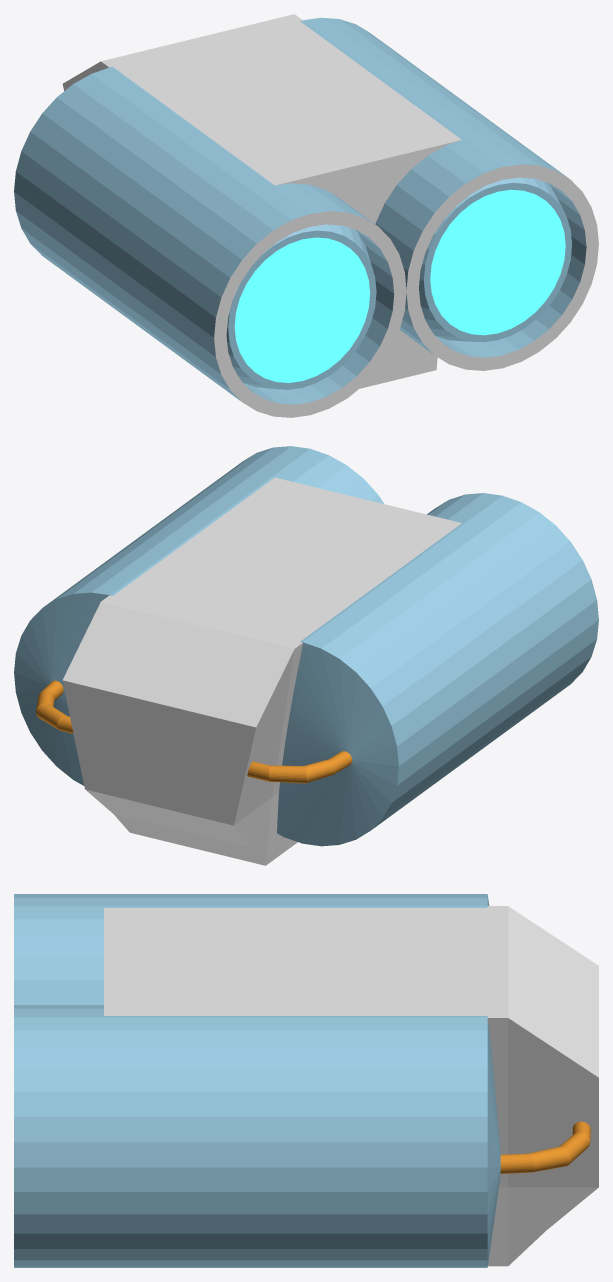
File: eyes5.glb
The picture shows the model from 3 angles, top to bottom: view 1: azimuth 30°, elevation 25°; view 2: azimuth 150°, elevation 25°; view 3: azimuth 270°, elevation 25°; orthographic projection. The views are drawn at different scales.
Parts seen in each view (by area): view 1: eyes5; view 2: eyes5; view 3: eyes5.
Boxes of the visible parts, x1,y1,x2,y2 form: eyes5: (14, 14, 598, 417); eyes5: (14, 446, 598, 865); eyes5: (14, 894, 598, 1267).
Bounding box in the file's own units: 1.11 × 0.616 × 1.23.
